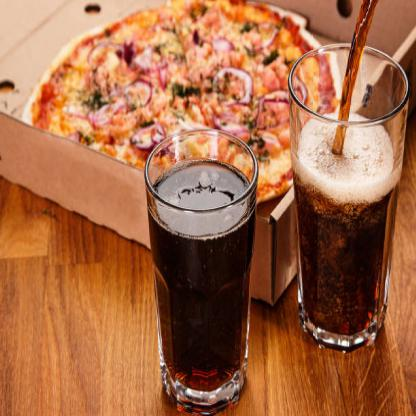non_milk_based_beverage: (288, 42, 410, 352), (144, 128, 259, 415)
pizza: (22, 0, 340, 204)
